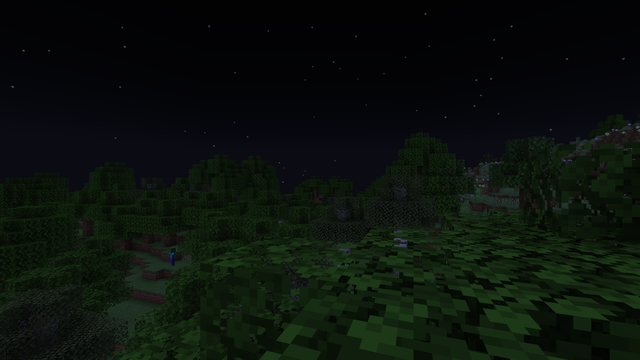creepers: (474, 187, 480, 201)
zombies: (168, 247, 176, 266)
